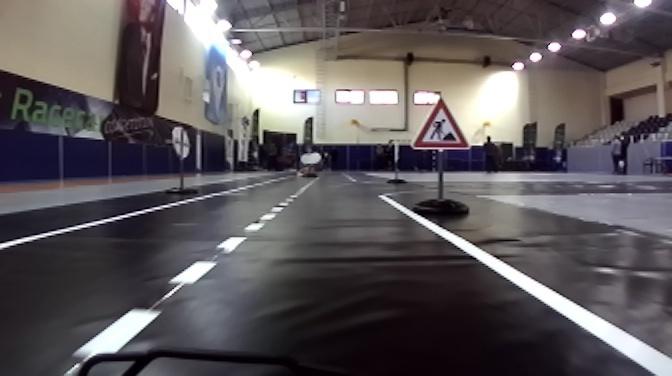yol_yapimi: (411, 97, 468, 153)
